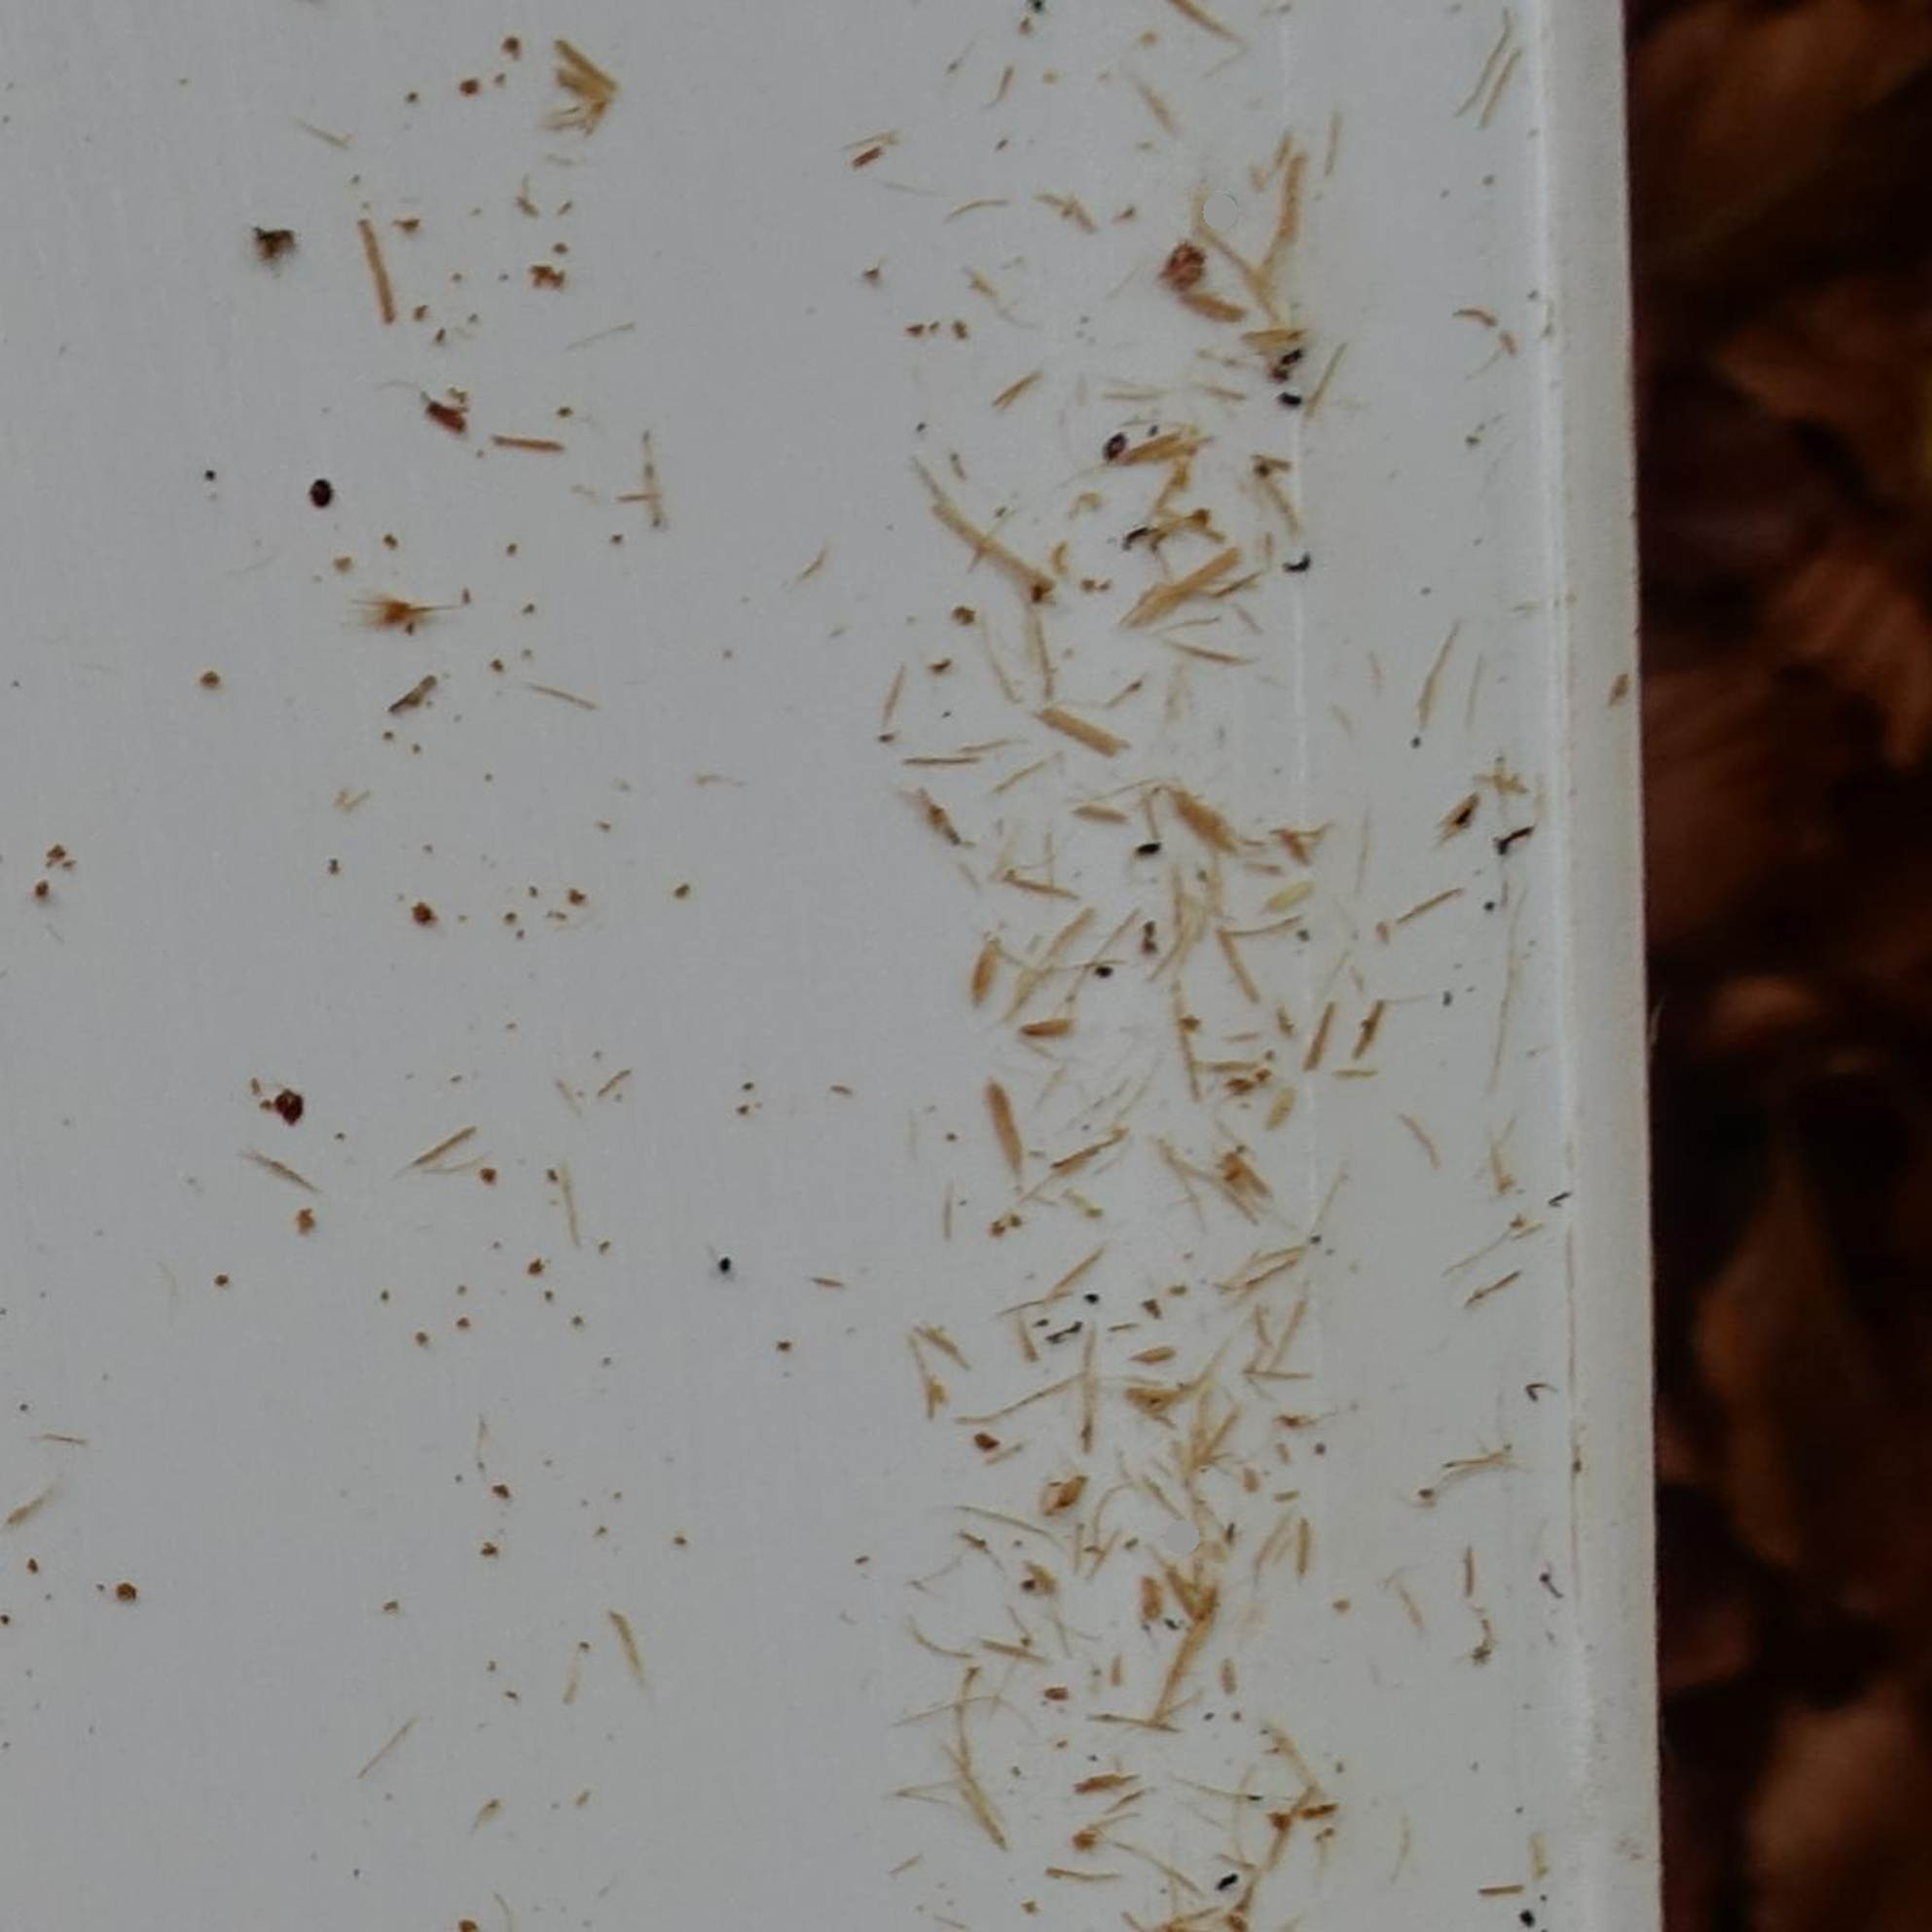Varroa: (306, 483, 329, 508)
